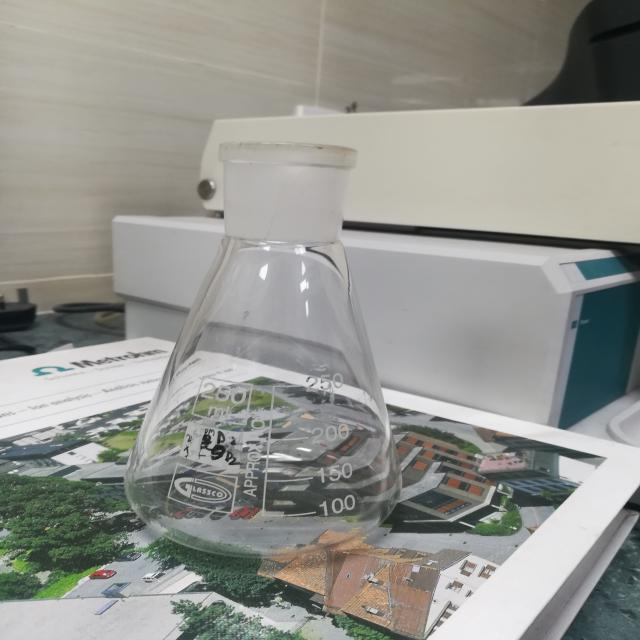Conical_Flask: (93, 89, 430, 577)
